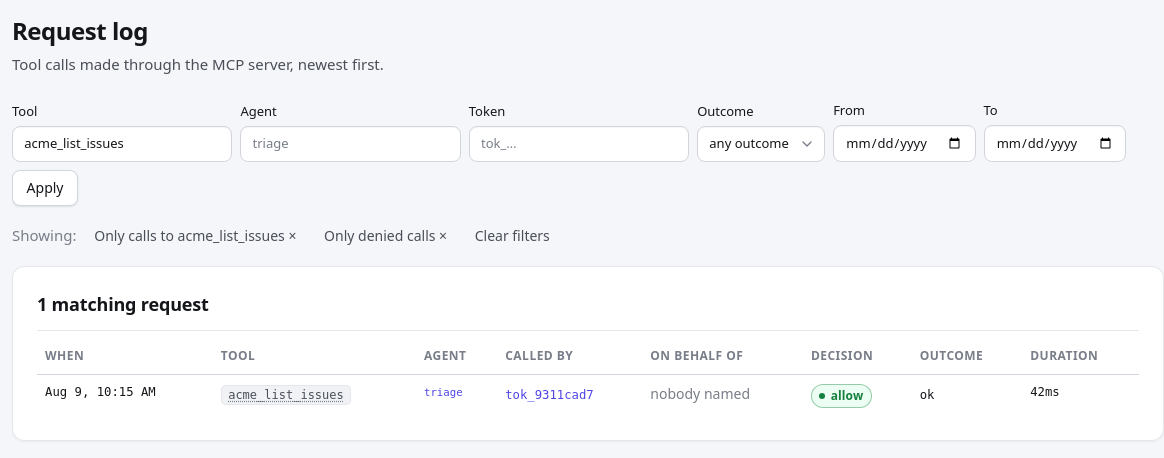
it: the filters come from the URL › drops one narrowing without touching the others
Click the button "Only calls to acme_list_issues ×".
click(195, 236)  # box x1=84 y1=218 x2=306 y2=254
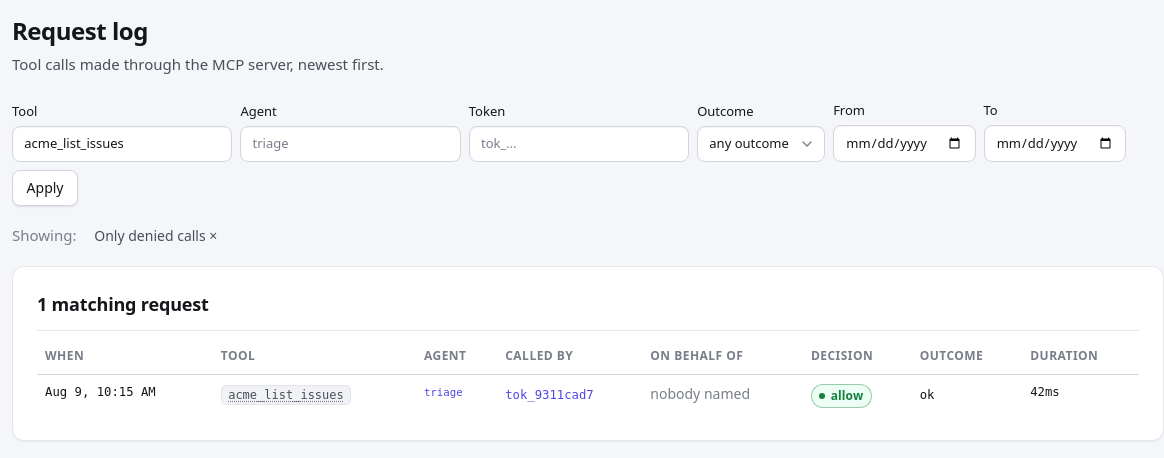
Expected: the button "Only denied calls ×" is shown, x1=84 y1=218 x2=227 y2=254
Result: the button "Only calls to acme_list_issues" is gone
